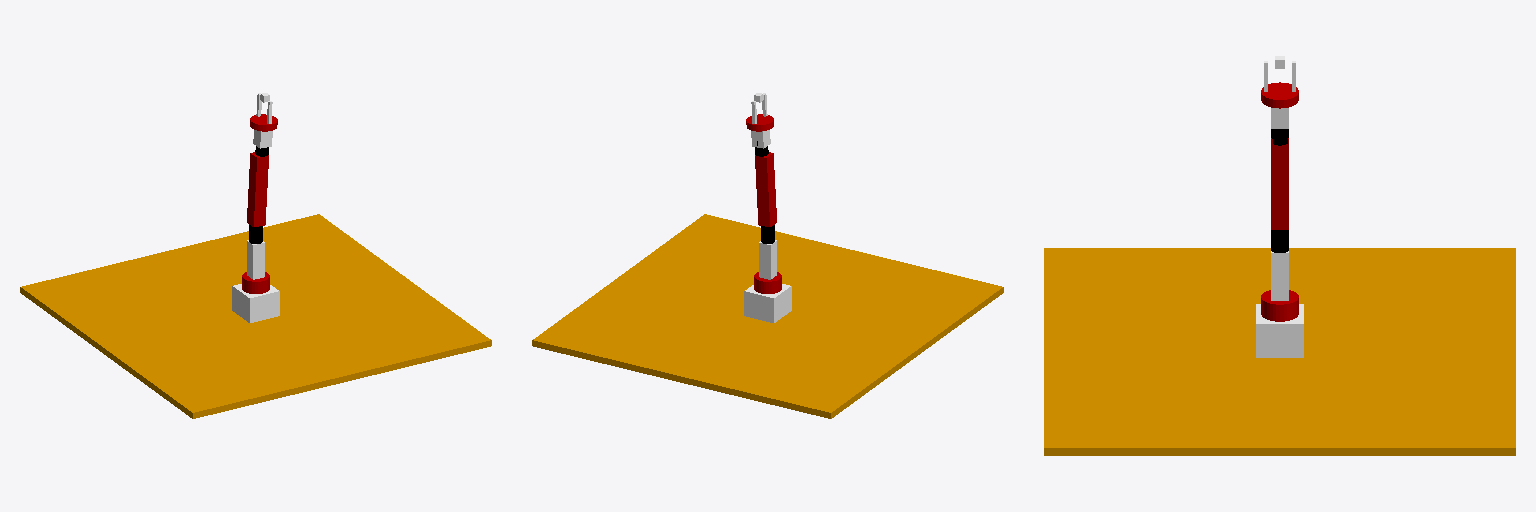
The robot description file, URDF, robot "seven_dof_arm":
<?xml version="1.0" ?>
<!-- =================================================================================== -->
<!-- |    This document was autogenerated by xacro from seven-dof.xacro                | -->
<!-- |    EDITING THIS FILE BY HAND IS NOT RECOMMENDED                                 | -->
<!-- =================================================================================== -->
<robot name="seven_dof_arm" xmlns:xacro="http://www.ros.org/wiki/xacro">
  <!-- Include materials -->
  <material name="Black">
    <color rgba="0.0 0.0 0.0 1.0"/>
  </material>
  <material name="Red">
    <color rgba="0.8 0.0 0.0 1.0"/>
  </material>
  <material name="White">
    <color rgba="1.0 1.0 1.0 1.0"/>
  </material>
  <!-- BOTTOM FIXED LINK 
This link is the base of the arm in which arm is placed 

-->
  <!-- ///////////////////////////////////////////////////////////////////////////////////////////////////////////////////// -->
  <joint name="bottom_joint" type="fixed">
    <origin rpy="0 0 0" xyz="0 0 0"/>
    <parent link="base_link"/>
    <child link="bottom_link"/>
  </joint>
  <link name="bottom_link">
    <visual>
      <origin rpy="0 0 0" xyz=" 0 0 -0.04"/>
      <geometry>
        <box size="1 1 0.02"/>
      </geometry>
      <material name="Brown"/>
    </visual>
    <collision>
      <origin rpy="0 0 0" xyz=" 0 0 -0.04"/>
      <geometry>
        <box size="1 1 0.02"/>
      </geometry>
    </collision>
    &gt;

  
  </link>
  <gazebo reference="bottom_link">
    <material>Gazebo/White</material>
  </gazebo>
  <!-- ///////////////////////////////////////////////////////////////////////////////////////////////////////////////////// -->
  <!-- BASE LINK -->
  <link name="base_link">
    <visual>
      <origin rpy="1.570795 0 0" xyz="0 0 0"/>
      <!-- rotate PI/2 -->
      <geometry>
        <box size="0.1 0.1 0.1"/>
      </geometry>
      <material name="White"/>
    </visual>
    <collision>
      <origin rpy="1.570795 0 0" xyz="0 0 0"/>
      <!-- rotate PI/2 -->
      <geometry>
        <box size="0.1 0.1 0.1"/>
      </geometry>
    </collision>
    &gt;
	
    <inertial>
      <mass value="1"/>
      <inertia ixx="1.0" ixy="0.0" ixz="0.0" iyy="0.5" iyz="0.0" izz="1.0"/>
    </inertial>
  </link>
  <gazebo reference="base_link">
    <material>Gazebo/White</material>
  </gazebo>
  <joint name="shoulder_pan_joint" type="revolute">
    <parent link="base_link"/>
    <child link="shoulder_pan_link"/>
    <origin rpy="0 1.570795 0.0" xyz="0 0 0.05"/>
    <axis xyz="-1 0 0"/>
    <limit effort="300" lower="-2.61799387799" upper="1.98394848567" velocity="1"/>
    <dynamics damping="50" friction="1"/>
  </joint>
  <!-- ///////////////////////////////////////////////////////////////////////////////////////////////////////////////////// -->
  <!-- SHOULDER PAN LINK -->
  <link name="shoulder_pan_link">
    <visual>
      <origin rpy="0 1.570795 0" xyz="0 0 0"/>
      <geometry>
        <cylinder length="0.08" radius="0.04"/>
      </geometry>
      <material name="Red"/>
    </visual>
    <collision>
      <origin rpy="0 1.570795 0" xyz="0 0 0"/>
      <geometry>
        <cylinder length="0.08" radius="0.04"/>
      </geometry>
    </collision>
    <inertial>
      <mass value="1"/>
      <inertia ixx="1.0" ixy="0.0" ixz="0.0" iyy="0.5" iyz="0.0" izz="1.0"/>
    </inertial>
  </link>
  <gazebo reference="shoulder_pan_link">
    <material>Gazebo/Red</material>
  </gazebo>
  <joint name="shoulder_pitch_joint" type="revolute">
    <parent link="shoulder_pan_link"/>
    <child link="shoulder_pitch_link"/>
    <origin rpy="-1.570795 0 1.570795" xyz="-0.041 0.0021 0.0"/>
    <axis xyz="1 0 0"/>
    <limit effort="300" lower="-1.19962513147" upper="1.89994105047" velocity="1"/>
    <dynamics damping="50" friction="1"/>
  </joint>
  <!-- ///////////////////////////////////////////////////////////////////////////////////////////////////////////////////// -->
  <!-- SHOULDER PITCH LINK -->
  <link name="shoulder_pitch_link">
    <visual>
      <origin rpy="0 1.570795 0" xyz="-0.002 0 0.04"/>
      <geometry>
        <box size="0.14 0.04 0.04"/>
      </geometry>
      <material name="White"/>
    </visual>
    <collision>
      <origin rpy="0 1.570795 0" xyz="-0.002 0 0.04"/>
      <geometry>
        <box size="0.14 0.04 0.04"/>
      </geometry>
    </collision>
    <inertial>
      <mass value="1"/>
      <inertia ixx="1.0" ixy="0.0" ixz="0.0" iyy="0.5" iyz="0.0" izz="1.0"/>
    </inertial>
  </link>
  <gazebo reference="shoulder_pitch_link">
    <material>Gazebo/White</material>
  </gazebo>
  <joint name="elbow_roll_joint" type="revolute">
    <parent link="shoulder_pitch_link"/>
    <child link="elbow_roll_link"/>
    <origin rpy="3.14159 1.570795 0" xyz="-0.002 0 0.1206"/>
    <axis xyz="-1 0 0"/>
    <limit effort="300" lower="-2.61799387799" upper="0.705631162427" velocity="1"/>
    <dynamics damping="50" friction="1"/>
  </joint>
  <!-- ///////////////////////////////////////////////////////////////////////////////////////////////////////////////////// -->
  <!-- ELBOW ROLL LINK -->
  <link name="elbow_roll_link">
    <visual>
      <origin rpy="0 1.570795 0" xyz="-0.015 0.0 -0.0"/>
      <geometry>
        <cylinder length="0.06" radius="0.02"/>
      </geometry>
      <material name="Black"/>
    </visual>
    <collision>
      <origin rpy="0 1.570795 0" xyz="-0.015 0.0 -0.0"/>
      <geometry>
        <cylinder length="0.06" radius="0.02"/>
      </geometry>
    </collision>
    <inertial>
      <mass value="1"/>
      <inertia ixx="1.0" ixy="0.0" ixz="0.0" iyy="0.5" iyz="0.0" izz="1.0"/>
    </inertial>
  </link>
  <gazebo reference="elbow_roll_link">
    <material>Gazebo/Black</material>
  </gazebo>
  <joint name="elbow_pitch_joint" type="revolute">
    <parent link="elbow_roll_link"/>
    <child link="elbow_pitch_link"/>
    <origin rpy="0.055 1.570795 0" xyz="-0.035 0 0.0"/>
    <axis xyz="1 0 0"/>
    <limit effort="300" lower="-1.5953400194" upper="1.93281579274" velocity="1"/>
    <dynamics damping="50" friction="1"/>
  </joint>
  <!-- ///////////////////////////////////////////////////////////////////////////////////////////////////////////////////// -->
  <!-- ELBOW PITCH LINK -->
  <link name="elbow_pitch_link">
    <visual>
      <origin rpy="0 1.570795 0" xyz="0 0 -0.12"/>
      <geometry>
        <box size="0.22 0.04 0.04"/>
      </geometry>
      <material name="Red"/>
    </visual>
    <collision>
      <origin rpy="0 1.570795 0" xyz="0 0 -0.12"/>
      <geometry>
        <box size="0.22 0.04 0.04"/>
      </geometry>
    </collision>
    <inertial>
      <mass value="1"/>
      <inertia ixx="1.0" ixy="0.0" ixz="0.0" iyy="0.5" iyz="0.0" izz="1.0"/>
    </inertial>
  </link>
  <gazebo reference="elbow_pitch_link">
    <material>Gazebo/Red</material>
  </gazebo>
  <joint name="wrist_roll_joint" type="revolute">
    <parent link="elbow_pitch_link"/>
    <child link="wrist_roll_link"/>
    <origin rpy="0 1.570795 3.14159" xyz="0.0 0.0081 -.248"/>
    <axis xyz="1 0 0"/>
    <limit effort="300" lower="-2.61799387799" upper="2.6128806087" velocity="1"/>
    <dynamics damping="50" friction="1"/>
  </joint>
  <!-- WRIST ROLL LINK -->
  <link name="wrist_roll_link">
    <visual>
      <origin rpy="0 1.570795 0" xyz="0 0 0"/>
      <geometry>
        <cylinder length="0.06" radius="0.02"/>
      </geometry>
      <material name="Black"/>
    </visual>
    <collision>
      <origin rpy="0 1.570795 0" xyz="0 0 0"/>
      <geometry>
        <cylinder length="0.06" radius="0.02"/>
      </geometry>
    </collision>
    <inertial>
      <mass value="1"/>
      <inertia ixx="1.0" ixy="0.0" ixz="0.0" iyy="0.5" iyz="0.0" izz="1.0"/>
    </inertial>
  </link>
  <gazebo reference="wrist_roll_link">
    <material>Gazebo/Black</material>
  </gazebo>
  <joint name="wrist_pitch_joint" type="revolute">
    <parent link="wrist_roll_link"/>
    <child link="wrist_pitch_link"/>
    <origin rpy="0 1.570795 0" xyz="0.0 0.0 0.0001"/>
    <axis xyz="1 0 0"/>
    <limit effort="300" lower="-1.5953400194" upper="1.98394848567" velocity="1"/>
    <dynamics damping="50" friction="1"/>
  </joint>
  <!-- ///////////////////////////////////////////////////////////////////////////////////////////////////////////////////// -->
  <!-- WRIST PITCH LINK -->
  <link name="wrist_pitch_link">
    <visual>
      <origin rpy="0 1.570795 0" xyz="0 0 0.04"/>
      <geometry>
        <box size="0.06 0.04 0.04"/>
      </geometry>
      <material name="White"/>
    </visual>
    <collision>
      <origin rpy="0 1.570795 0" xyz="0 0 0.04 "/>
      <geometry>
        <box size="0.06 0.04 0.04"/>
      </geometry>
    </collision>
    <inertial>
      <mass value="1"/>
      <inertia ixx="1.0" ixy="0.0" ixz="0.0" iyy="0.5" iyz="0.0" izz="1.0"/>
    </inertial>
  </link>
  <gazebo reference="wrist_pitch_link">
    <material>Gazebo/White</material>
  </gazebo>
  <joint name="gripper_roll_joint" type="revolute">
    <parent link="wrist_pitch_link"/>
    <child link="gripper_roll_link"/>
    <origin rpy="4.712385 -1.570795 0" xyz="0 0 0.080"/>
    <axis xyz="1 0 0"/>
    <limit effort="300" lower="-2.61799387799" upper="2.6128806087" velocity="1"/>
    <dynamics damping="50" friction="1"/>
  </joint>
  <!-- ///////////////////////////////////////////////////////////////////////////////////////////////////////////////////// -->
  <!-- GRIPPER ROLL LINK -->
  <link name="gripper_roll_link">
    <visual>
      <origin rpy="0 1.570795 0" xyz="0 0 0"/>
      <geometry>
        <cylinder length="0.02" radius="0.04"/>
      </geometry>
      <material name="Red"/>
    </visual>
    <collision>
      <origin rpy="0 1.570795 0" xyz="0 0 0"/>
      <geometry>
        <cylinder length="0.02" radius="0.04"/>
      </geometry>
    </collision>
    <inertial>
      <mass value="1"/>
      <inertia ixx="1.0" ixy="0.0" ixz="0.0" iyy="0.5" iyz="0.0" izz="1.0"/>
    </inertial>
  </link>
  <gazebo reference="gripper_roll_link">
    <material>Gazebo/Red</material>
  </gazebo>
  <joint name="finger_joint1" type="prismatic">
    <parent link="gripper_roll_link"/>
    <child link="gripper_finger_link1"/>
    <origin xyz="0.0 0 0"/>
    <axis xyz="0 1 0"/>
    <limit effort="100" lower="0" upper="0.03" velocity="1.0"/>
    <safety_controller k_position="20" k_velocity="20" soft_lower_limit="-0.15" soft_upper_limit="0.0"/>
    <dynamics damping="50" friction="1"/>
  </joint>
  <!-- ///////////////////////////////////////////////////////////////////////////////////////////////////////////////////// -->
  <!-- LEFT GRIPPER AFT LINK -->
  <link name="gripper_finger_link1">
    <visual>
      <origin xyz="0.04 -0.03 0"/>
      <geometry>
        <box size="0.08 0.01 0.01"/>
      </geometry>
      <material name="White"/>
    </visual>
    <inertial>
      <mass value="1"/>
      <inertia ixx="1.0" ixy="0.0" ixz="0.0" iyy="0.5" iyz="0.0" izz="1.0"/>
    </inertial>
  </link>
  <gazebo reference="l_gripper_aft_link">
    <material>Gazebo/White</material>
  </gazebo>
  <!-- Joint between Wrist roll and finger 2 -->
  <joint name="finger_joint2" type="prismatic">
    <parent link="gripper_roll_link"/>
    <child link="gripper_finger_link2"/>
    <origin xyz="0.0 0 0"/>
    <axis xyz="0 1 0"/>
    <limit effort="1" lower="-0.03" upper="0" velocity="1.0"/>
    <!--    <mimic joint="gripper_finger_joint" multiplier="-1.0" offset="0.0" /> -->
    <dynamics damping="50" friction="1"/>
  </joint>
  <!-- ///////////////////////////////////////////////////////////////////////////////////////////////////////////////////// -->
  <!-- RIGHT GRIPPER AFT LINK -->
  <link name="gripper_finger_link2">
    <visual>
      <origin xyz="0.04 0.03 0"/>
      <geometry>
        <box size="0.08 0.01 0.01"/>
      </geometry>
      <material name="White"/>
    </visual>
    <inertial>
      <mass value="1"/>
      <inertia ixx="1.0" ixy="0.0" ixz="0.0" iyy="0.5" iyz="0.0" izz="1.0"/>
    </inertial>
  </link>
  <gazebo reference="r_gripper_aft_link">
    <material>Gazebo/White</material>
  </gazebo>
  <!-- Grasping frame -->
  <link name="grasping_frame">
    <inertial>
      <origin rpy="0 0 0" xyz="0 0 0"/>
      <mass value="0.0001"/>
      <cuboid_inertia mass="0.0001" x="0.001" y="0.001" z="0.001"/>
      <inertia ixx="1.0" ixy="0.0" ixz="0.0" iyy="100.0" iyz="0.0" izz="1.0"/>
    </inertial>
    <visual>
      <origin xyz="0 0 0"/>
      <geometry>
        <box size="0.02 0.02 0.02"/>
      </geometry>
      <material name="White"/>
    </visual>
  </link>
  <joint name="grasping_frame_joint" type="fixed">
    <parent link="gripper_roll_link"/>
    <child link="grasping_frame"/>
    <origin rpy="0 0 0" xyz="0.08 0 0"/>
  </joint>
  <!--xacro:include filename="$(find mastering_ros_robot_description_pkg)/urdf/sensors/xtion_pro_live.urdf.xacro"/-->
  <!-- ///////////////////////////////////////////////////////////////////////////////////////////////////////////////////// -->
  <!-- Transmissions for ROS Control -->
  <transmission name="tran1">
    <type>transmission_interface/SimpleTransmission</type>
    <joint name="shoulder_pan_joint">
      <hardwareInterface>PositionJointInterface</hardwareInterface>
    </joint>
    <actuator name="motor1">
      <hardwareInterface>PositionJointInterface</hardwareInterface>
      <mechanicalReduction>1</mechanicalReduction>
    </actuator>
  </transmission>
  <transmission name="tran1">
    <type>transmission_interface/SimpleTransmission</type>
    <joint name="shoulder_pitch_joint">
      <hardwareInterface>PositionJointInterface</hardwareInterface>
    </joint>
    <actuator name="motor1">
      <hardwareInterface>PositionJointInterface</hardwareInterface>
      <mechanicalReduction>1</mechanicalReduction>
    </actuator>
  </transmission>
  <transmission name="tran1">
    <type>transmission_interface/SimpleTransmission</type>
    <joint name="elbow_roll_joint">
      <hardwareInterface>PositionJointInterface</hardwareInterface>
    </joint>
    <actuator name="motor1">
      <hardwareInterface>PositionJointInterface</hardwareInterface>
      <mechanicalReduction>1</mechanicalReduction>
    </actuator>
  </transmission>
  <transmission name="tran1">
    <type>transmission_interface/SimpleTransmission</type>
    <joint name="elbow_pitch_joint">
      <hardwareInterface>PositionJointInterface</hardwareInterface>
    </joint>
    <actuator name="motor1">
      <hardwareInterface>PositionJointInterface</hardwareInterface>
      <mechanicalReduction>1</mechanicalReduction>
    </actuator>
  </transmission>
  <transmission name="tran1">
    <type>transmission_interface/SimpleTransmission</type>
    <joint name="wrist_roll_joint">
      <hardwareInterface>PositionJointInterface</hardwareInterface>
    </joint>
    <actuator name="motor1">
      <hardwareInterface>PositionJointInterface</hardwareInterface>
      <mechanicalReduction>1</mechanicalReduction>
    </actuator>
  </transmission>
  <transmission name="tran1">
    <type>transmission_interface/SimpleTransmission</type>
    <joint name="wrist_pitch_joint">
      <hardwareInterface>PositionJointInterface</hardwareInterface>
    </joint>
    <actuator name="motor1">
      <hardwareInterface>PositionJointInterface</hardwareInterface>
      <mechanicalReduction>1</mechanicalReduction>
    </actuator>
  </transmission>
  <transmission name="tran1">
    <type>transmission_interface/SimpleTransmission</type>
    <joint name="gripper_roll_joint">
      <hardwareInterface>PositionJointInterface</hardwareInterface>
    </joint>
    <actuator name="motor1">
      <hardwareInterface>PositionJointInterface</hardwareInterface>
      <mechanicalReduction>1</mechanicalReduction>
    </actuator>
  </transmission>
  <transmission name="tran1">
    <type>transmission_interface/SimpleTransmission</type>
    <joint name="finger_joint1">
      <hardwareInterface>PositionJointInterface</hardwareInterface>
    </joint>
    <actuator name="motor1">
      <hardwareInterface>PositionJointInterface</hardwareInterface>
      <mechanicalReduction>1</mechanicalReduction>
    </actuator>
  </transmission>
  <transmission name="tran1">
    <type>transmission_interface/SimpleTransmission</type>
    <joint name="finger_joint2">
      <hardwareInterface>PositionJointInterface</hardwareInterface>
    </joint>
    <actuator name="motor1">
      <hardwareInterface>PositionJointInterface</hardwareInterface>
      <mechanicalReduction>1</mechanicalReduction>
    </actuator>
  </transmission>
  <!-- Define arm with gripper mounted on a base -->
  <!--xacro:base name="base"/>
  <xacro:arm parent="base"/>
  <xacro:gripper parent="tool"/-->
  <!-- Define RGB-D sensor -->
  <!--xacro:xtion_pro_live name="rgbd_camera" parent="base">
    <origin xyz="0.1 0 1" rpy="0 ${75.0 * deg_to_rad} 0"/>
    <origin xyz="0 0 0" rpy="${-90.0 * deg_to_rad} 0 ${-90.0 * deg_to_rad}"/>
  </xacro:xtion_pro_live-->
  <!-- ros_control plugin -->
  <gazebo>
    <plugin filename="libgazebo_ros_control.so" name="gazebo_ros_control">
      <robotNamespace>/seven_dof_arm</robotNamespace>
    </plugin>
  </gazebo>
</robot>

--- What the picture shows (computed from the rendered views, not written in the file) ---
Views: 3 orthographic renders of the robot side by side, from view 1: azimuth 30°, elevation 25°; view 2: azimuth 150°, elevation 25°; view 3: azimuth 270°, elevation 25°.
Model seven_dof_arm with 12 links and 11 joints (7 revolute, 2 prismatic, 2 fixed), rooted at base_link, posed all joints at 0.
Links seen in each view (by area): view 1: bottom_link, base_link, elbow_pitch_link, shoulder_pitch_link; view 2: bottom_link, base_link, elbow_pitch_link, shoulder_pitch_link; view 3: bottom_link, base_link, elbow_pitch_link, shoulder_pan_link, shoulder_pitch_link, gripper_roll_link.
Link boxes in pixels (<box>): bottom_link: <box>20,214,491,418</box>; base_link: <box>232,284,279,322</box>; elbow_pitch_link: <box>247,152,268,226</box>; shoulder_pitch_link: <box>247,240,264,279</box>; bottom_link: <box>532,214,1003,418</box>; base_link: <box>744,284,791,322</box>; elbow_pitch_link: <box>755,152,776,226</box>; shoulder_pitch_link: <box>759,240,776,279</box>; bottom_link: <box>1044,248,1515,455</box>; base_link: <box>1256,304,1303,357</box>; elbow_pitch_link: <box>1271,138,1288,229</box>; shoulder_pan_link: <box>1261,290,1298,321</box>; shoulder_pitch_link: <box>1271,251,1288,300</box>; gripper_roll_link: <box>1261,82,1298,108</box>.
Size in the robot's own frame: 1 by 1 by 0.7141 metres.
Geometry: primitives only (box / cylinder / sphere), no mesh files.